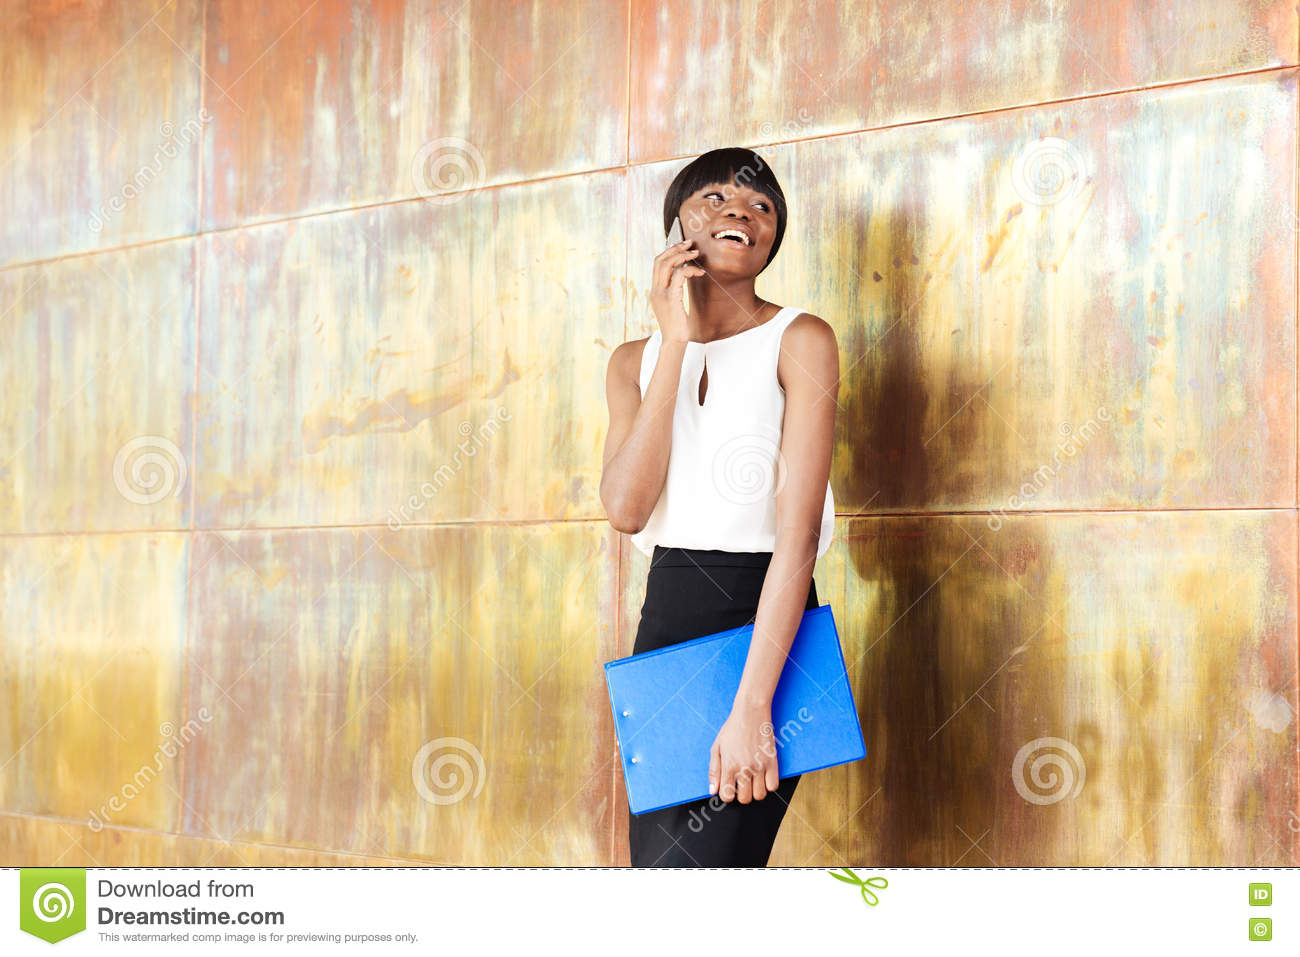phone: (663, 214, 687, 274)
talk: (653, 187, 776, 359)
